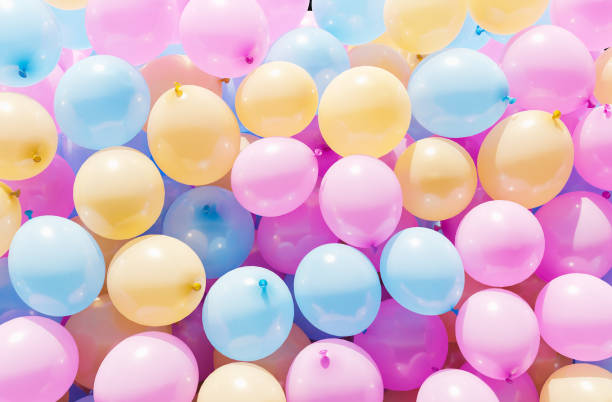Balloon: (8, 214, 106, 318), (107, 234, 207, 324), (150, 85, 238, 186), (478, 109, 573, 202), (409, 50, 510, 137), (53, 57, 150, 147), (202, 266, 293, 360), (74, 147, 166, 238), (503, 24, 596, 114), (294, 243, 381, 337), (320, 66, 411, 155), (454, 199, 543, 286), (456, 287, 541, 376), (93, 332, 200, 402), (318, 157, 402, 245), (380, 227, 464, 314), (177, 1, 270, 76), (1, 314, 79, 402), (536, 273, 612, 362), (396, 137, 477, 219), (233, 139, 319, 216), (235, 60, 319, 137), (538, 193, 612, 277), (288, 339, 384, 402), (83, 1, 178, 62), (1, 1, 63, 87), (1, 91, 57, 178), (385, 1, 468, 53)
